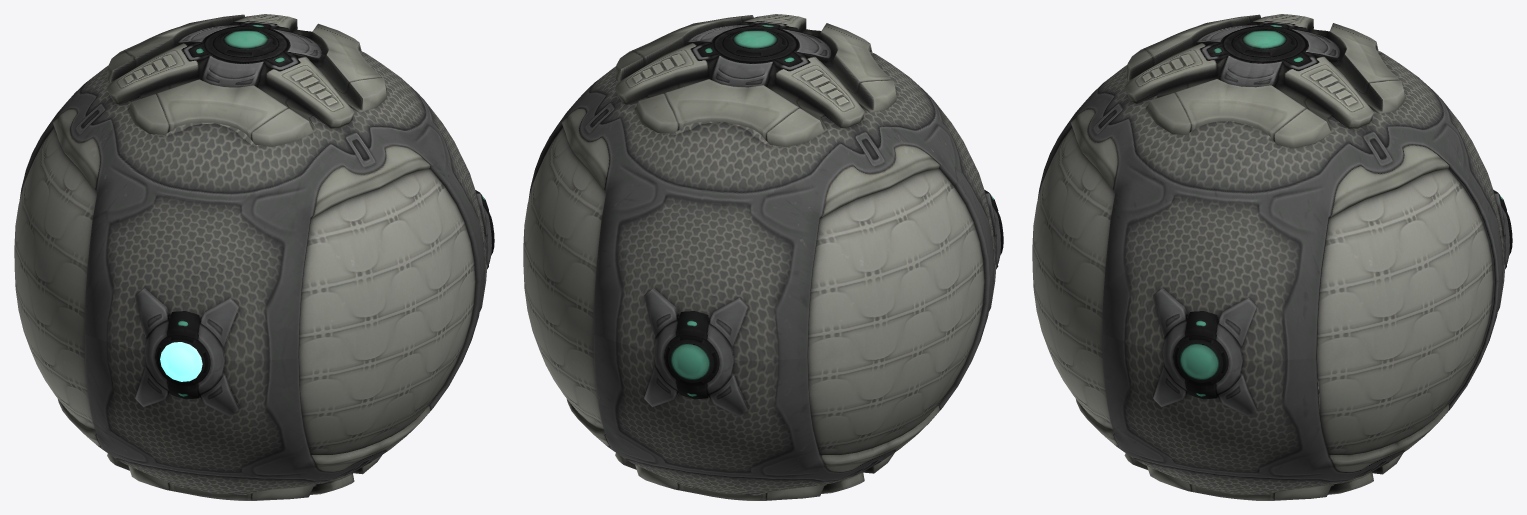
File: ball.glb
3 views of the same model, side by side, from view 1: azimuth 30°, elevation 25°; view 2: azimuth 150°, elevation 25°; view 3: azimuth 270°, elevation 25° (orthographic).
Visible parts, largest first — view 1: bola; view 2: bola; view 3: bola.
Part boxes in pixels (<box>): bola: <box>14,14,494,500</box>; bola: <box>523,14,1003,500</box>; bola: <box>1032,14,1512,500</box>.
Size of the model in its own units: 1.92 by 1.96 by 1.91.
2 materials, 1 textured.
